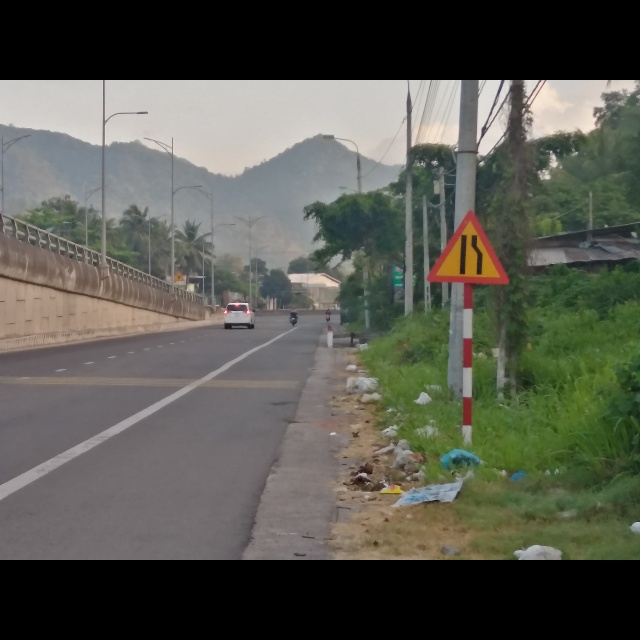Đường bị hẹp bên phải: (426, 211, 512, 283)
